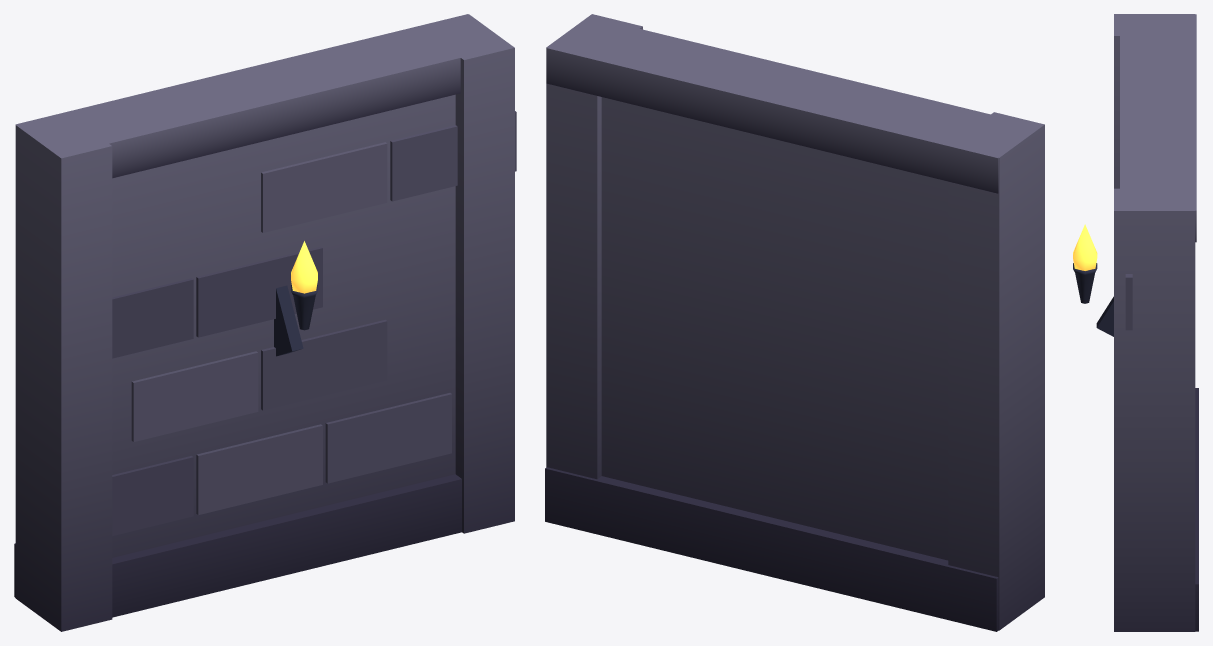
The model's file is dun_wall_torch.glb.
3 views of the same model, side by side, from view 1: azimuth 30°, elevation 25°; view 2: azimuth 150°, elevation 25°; view 3: azimuth 270°, elevation 25° (orthographic). The views are drawn at different scales.
Visible parts, largest first — view 1: dun_wall_torch; view 2: dun_wall_torch; view 3: dun_wall_torch.
Part boxes in pixels (x1,y1,x2,y2): dun_wall_torch: (14,14,516,631); dun_wall_torch: (545,14,1044,631); dun_wall_torch: (1073,14,1198,631).
Size of the model in its own units: 4.08 by 4 by 1.08.
